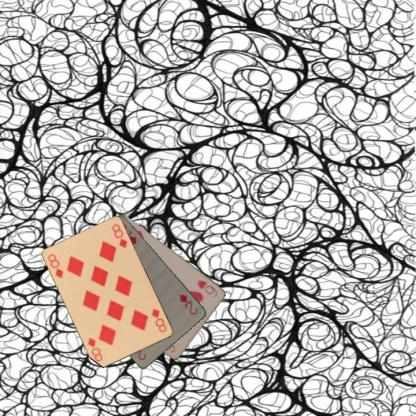2d: (176, 292, 199, 316)
6h: (195, 277, 219, 299)
8d: (149, 306, 168, 333), (46, 251, 64, 279)
